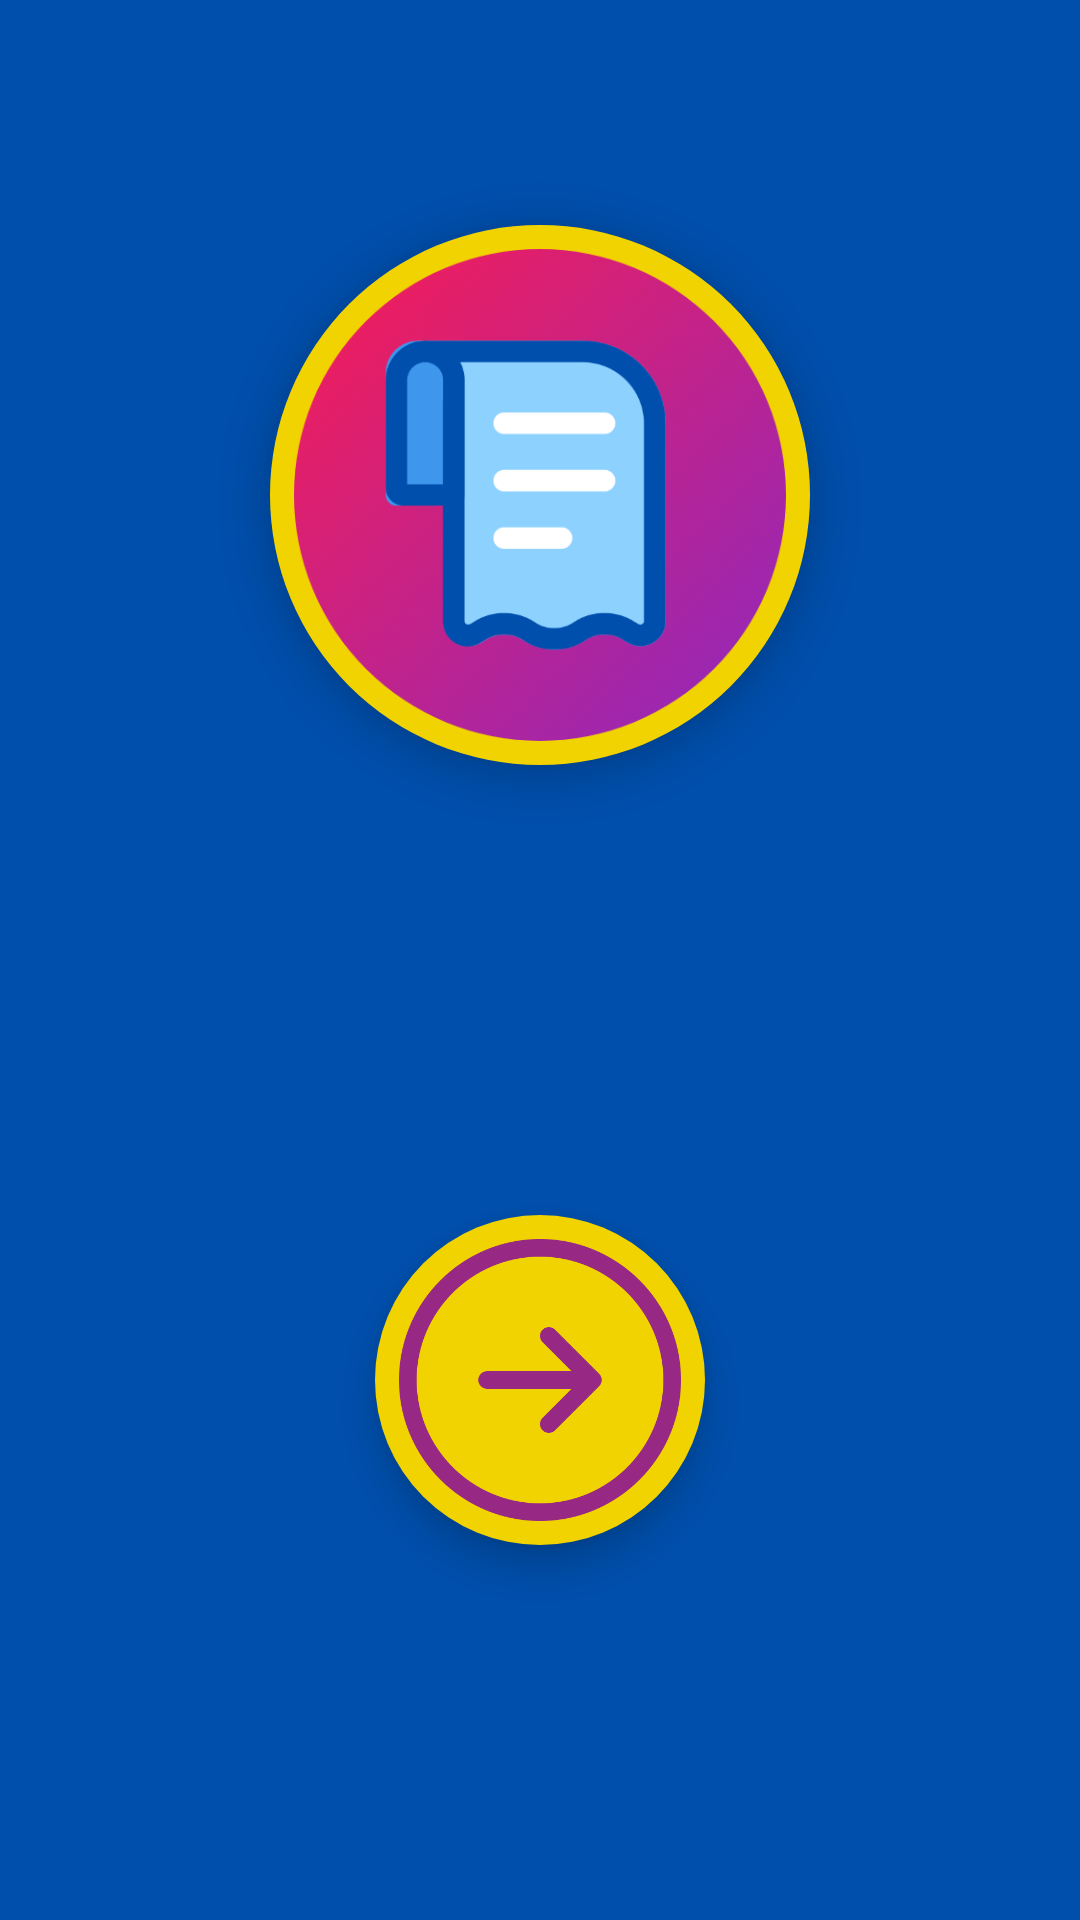

Named icons in this screenshot (1080px x 1920px) and their centers, (x=x, y=y):
Enter button: (x=540, y=1380)
